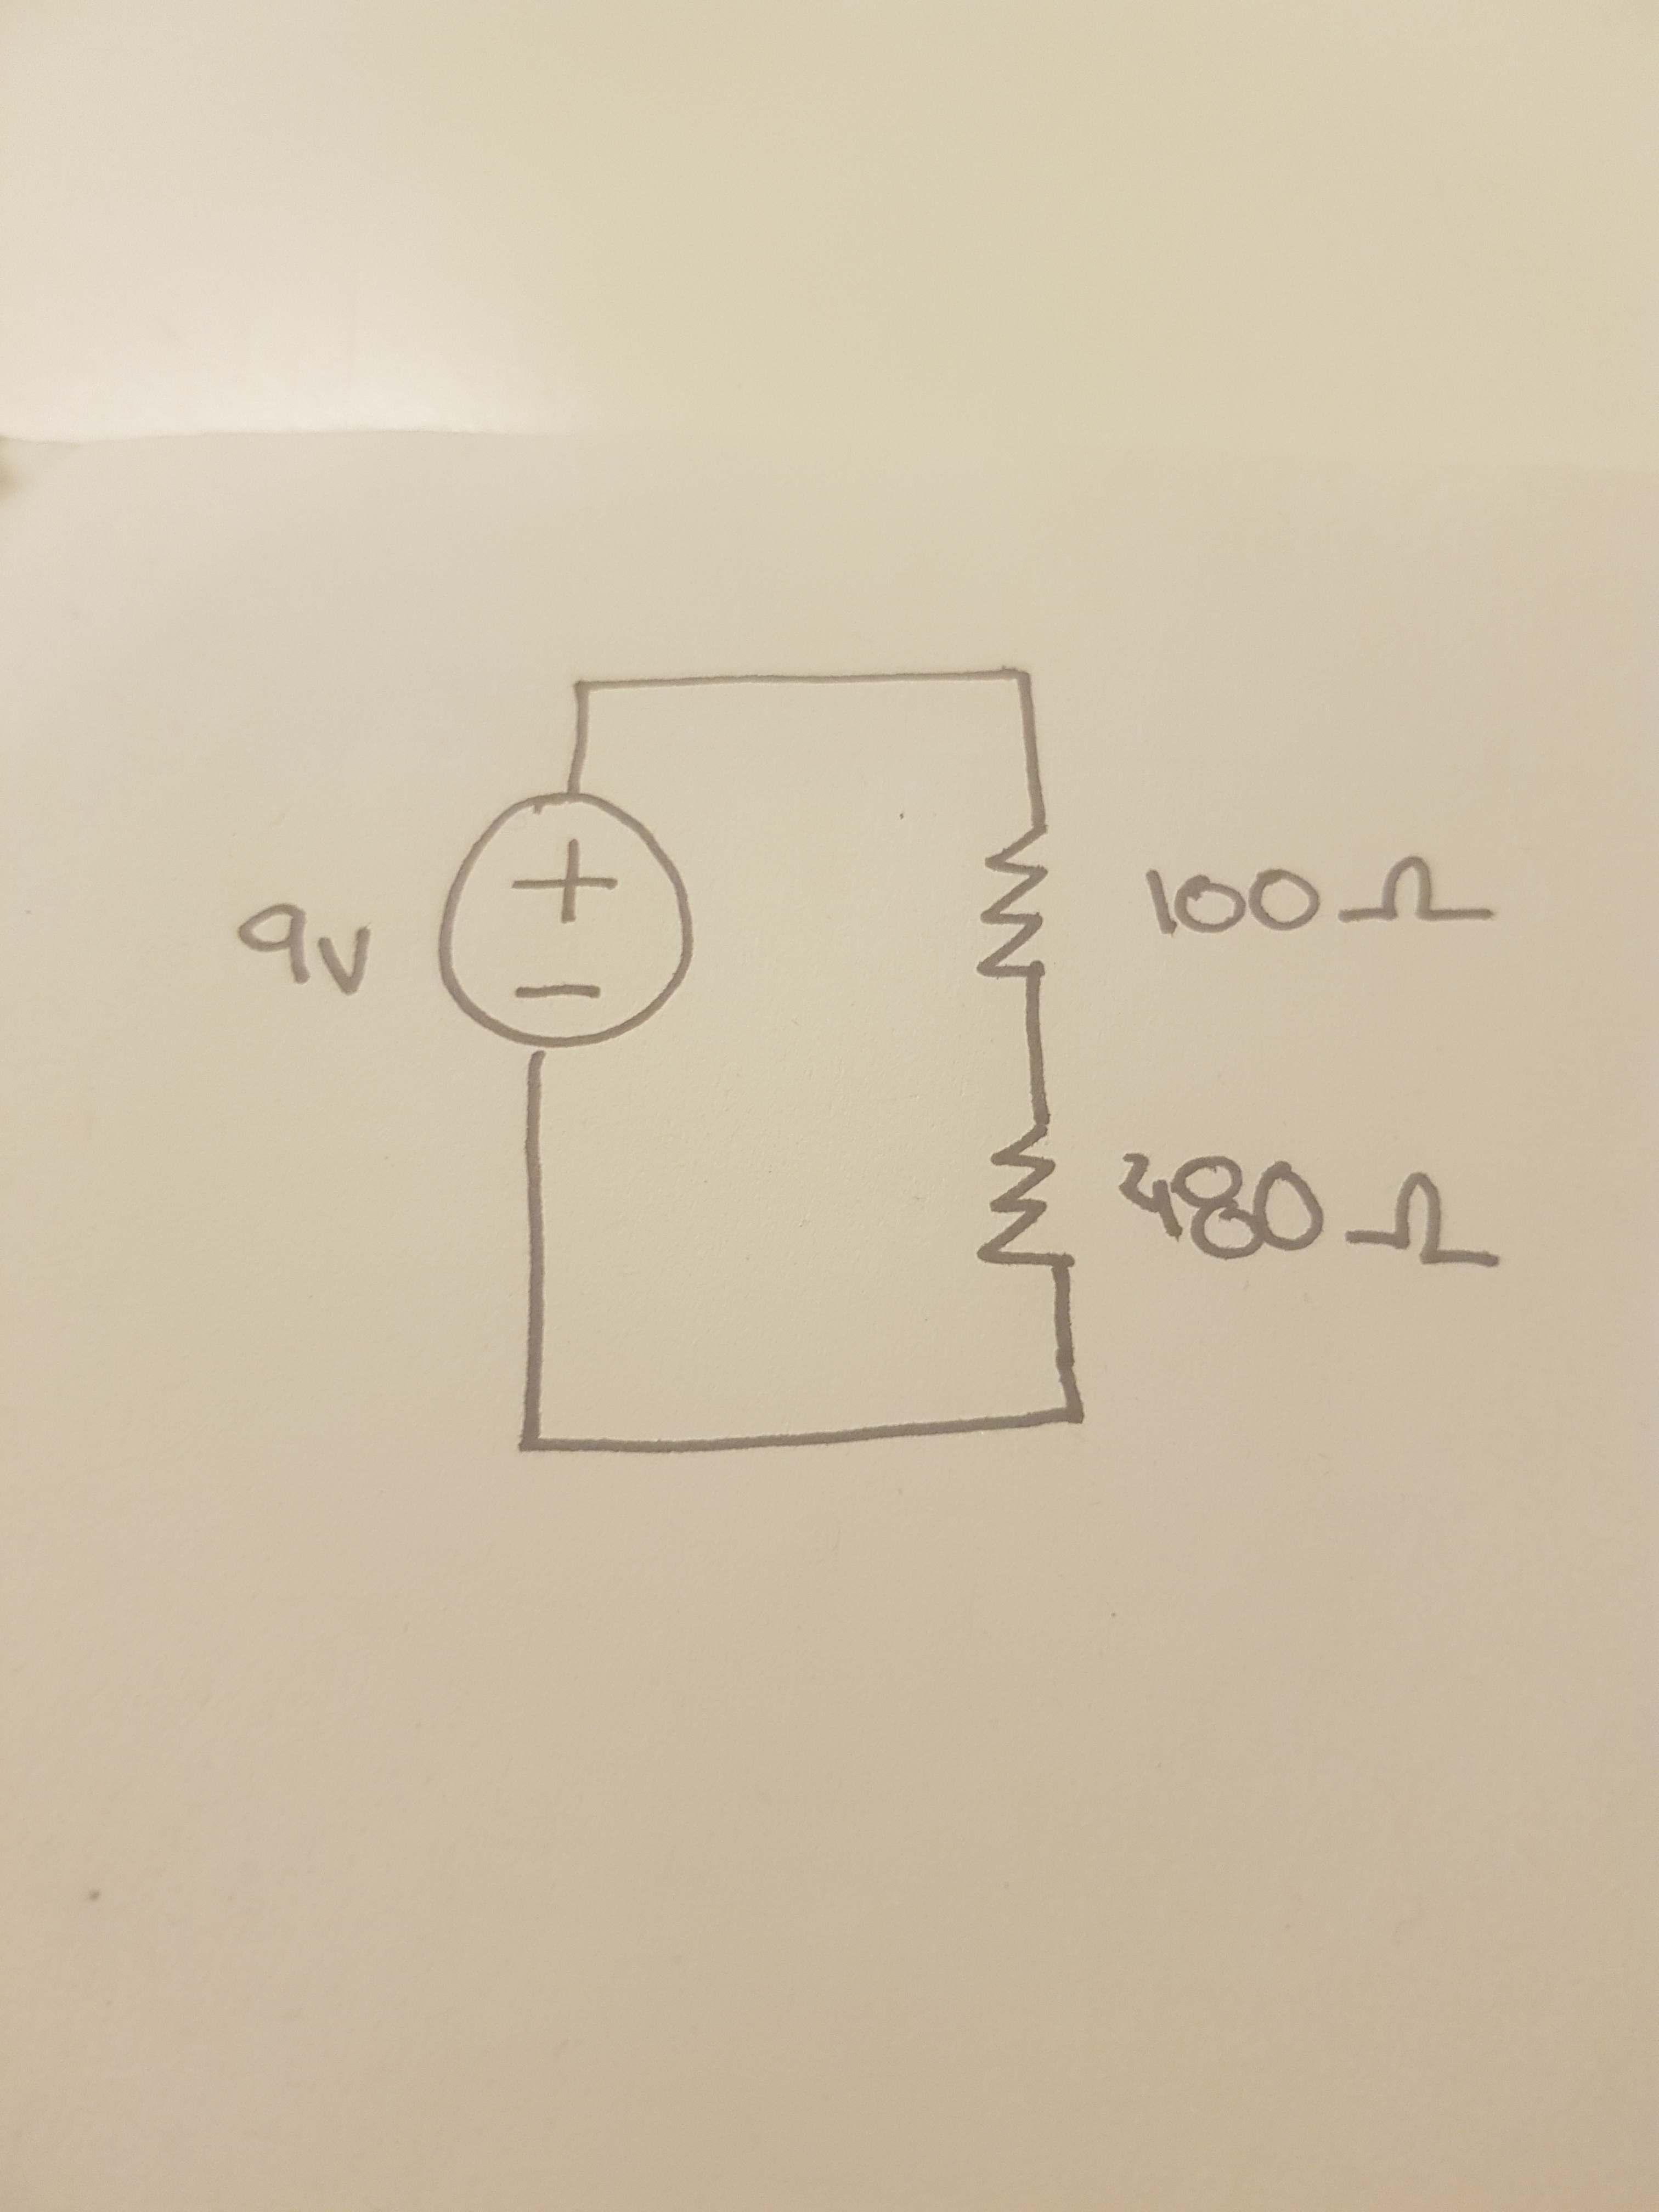junction: (509, 1423, 554, 1467), (1053, 1395, 1100, 1437), (1004, 657, 1040, 693), (565, 674, 598, 705)
resistor: (964, 817, 1066, 986), (967, 1122, 1082, 1270)
text: (1114, 1137, 1507, 1278), (1124, 843, 1513, 946), (230, 888, 383, 1012)
voltage.dc: (418, 779, 709, 1059)
